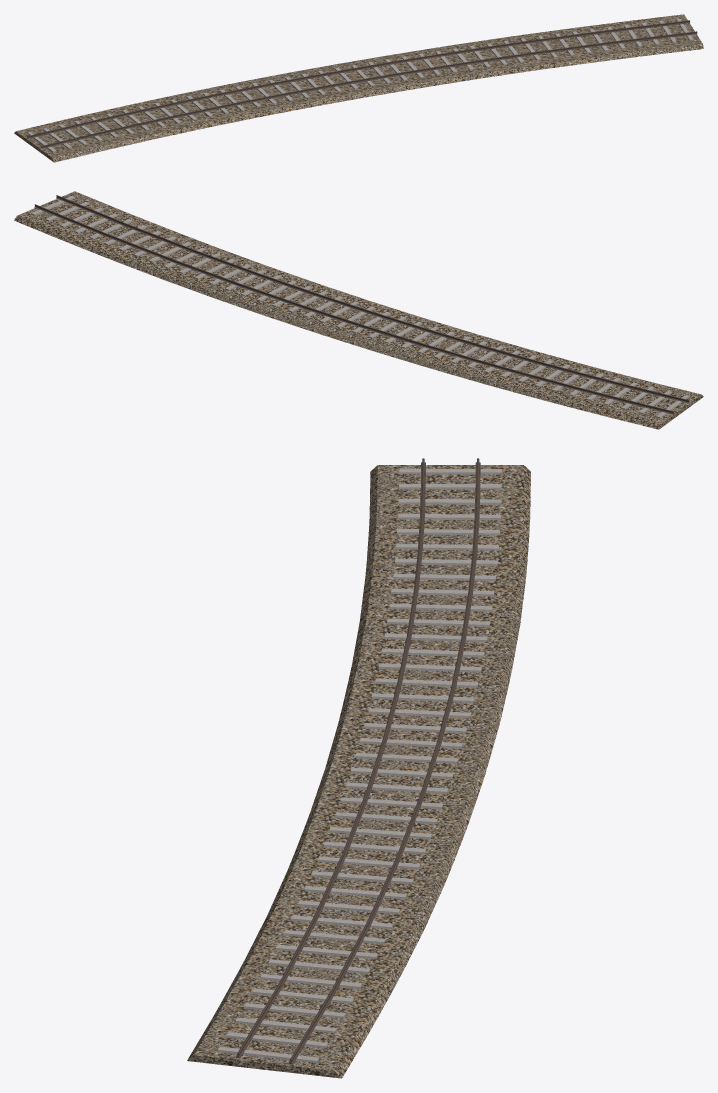
File: sweethome3d-scopia-railroad-curve-40m.glb
3 renders of one model, top to bottom at view 1: azimuth 30°, elevation 25°; view 2: azimuth 150°, elevation 25°; view 3: azimuth 270°, elevation 25°, orthographic. The views are drawn at different scales.
Parts seen in each view (by area): view 1: ballas40m15degres_Plane.013, curve40m15degres_Point.011, traverse40m15degres_Cube.014; view 2: ballas40m15degres_Plane.013, traverse40m15degres_Cube.014, curve40m15degres_Point.011; view 3: ballas40m15degres_Plane.013, traverse40m15degres_Cube.014, curve40m15degres_Point.011.
Part boxes in pixels (x1,y1,x2,y2): ballas40m15degres_Plane.013: (14, 14, 703, 162); curve40m15degres_Point.011: (27, 20, 697, 148); traverse40m15degres_Cube.014: (27, 18, 693, 152); ballas40m15degres_Plane.013: (14, 191, 703, 429); traverse40m15degres_Cube.014: (31, 196, 688, 418); curve40m15degres_Point.011: (34, 195, 689, 414); ballas40m15degres_Plane.013: (187, 465, 530, 1078); traverse40m15degres_Cube.014: (218, 468, 501, 1063); curve40m15degres_Point.011: (236, 458, 480, 1064).
Bounding box in the file's own units: 3933 × 39.86 × 943.
Materials: 3 (2 with a texture image).
